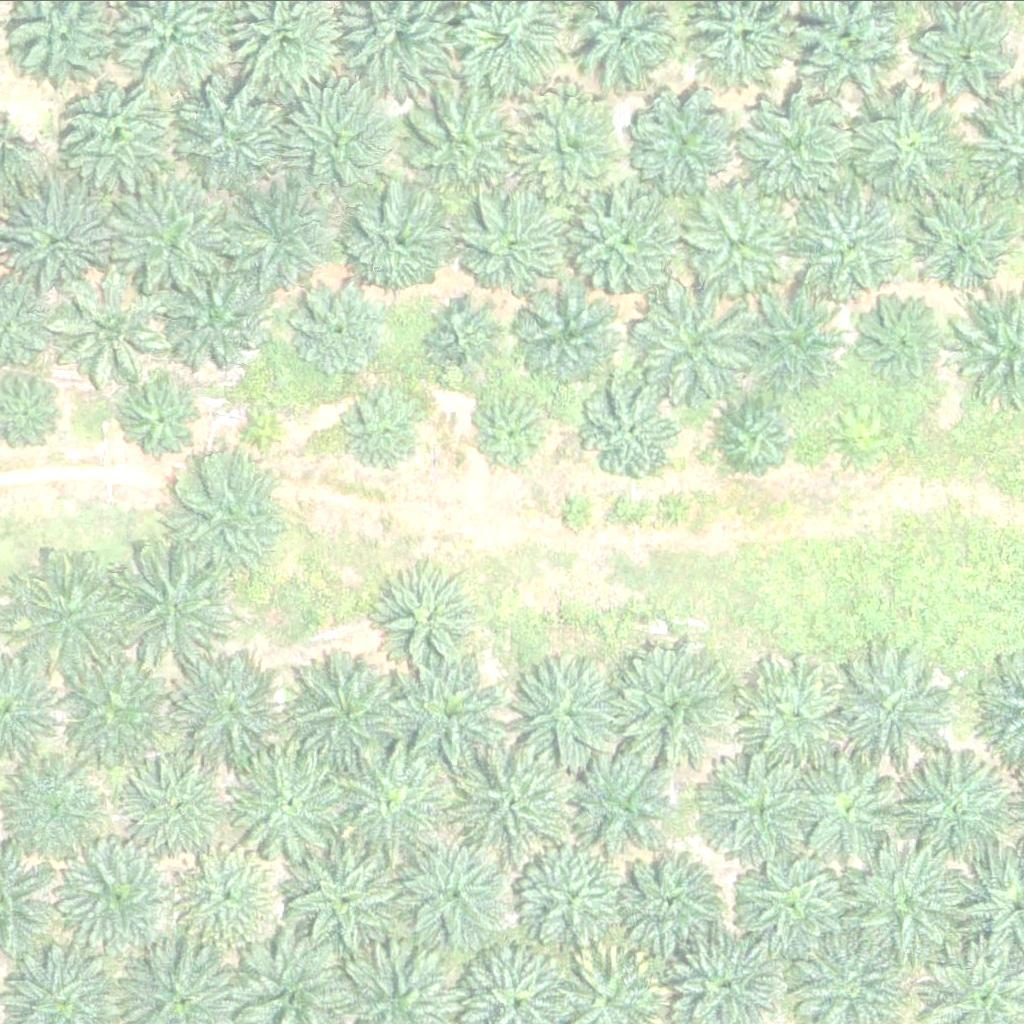Kelapa_Sawit: (60, 640, 186, 765), (16, 550, 142, 675), (60, 67, 186, 192), (106, 173, 232, 298), (109, 548, 235, 673), (287, 651, 413, 776), (508, 645, 634, 770), (604, 646, 730, 771), (456, 744, 582, 869), (328, 737, 454, 862), (231, 745, 357, 870), (288, 840, 414, 965), (630, 284, 756, 409), (696, 745, 822, 870), (732, 838, 858, 963), (734, 651, 860, 776), (855, 841, 981, 966), (896, 749, 1022, 874), (834, 647, 960, 772), (163, 448, 288, 573), (66, 835, 180, 948), (170, 839, 284, 952), (53, 273, 166, 386), (406, 87, 519, 200), (512, 93, 625, 206), (573, 181, 686, 294), (457, 191, 570, 304), (341, 181, 454, 294), (223, 176, 336, 289), (376, 560, 489, 673), (574, 750, 687, 863), (400, 836, 513, 949), (514, 838, 627, 951), (623, 83, 736, 196), (738, 88, 851, 201), (851, 88, 964, 201), (390, 655, 504, 767), (1, 746, 114, 858), (179, 84, 292, 196), (280, 85, 393, 197), (162, 257, 275, 369), (175, 655, 288, 767), (118, 748, 231, 860), (689, 184, 802, 296), (740, 283, 853, 395), (796, 188, 909, 300), (291, 276, 392, 376), (522, 284, 623, 384), (615, 856, 716, 956), (917, 192, 1018, 292), (917, 4, 1018, 104), (585, 380, 685, 480), (804, 758, 904, 858), (343, 383, 431, 471), (471, 385, 559, 473), (119, 373, 207, 461), (854, 296, 942, 383), (719, 399, 795, 474), (426, 297, 501, 372), (242, 400, 280, 438), (562, 493, 600, 530)
